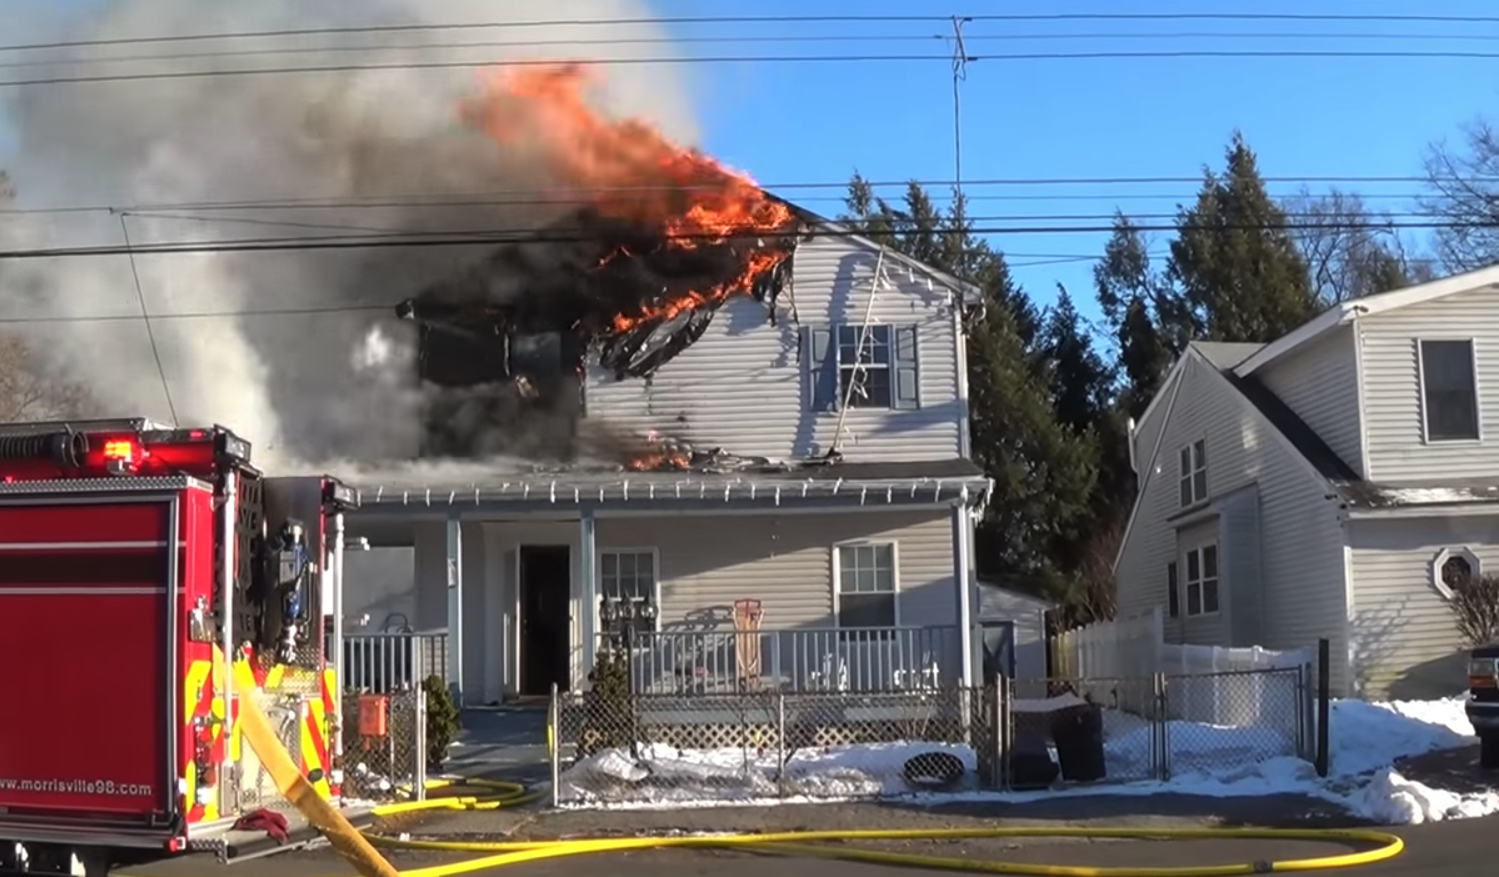fire: (456, 57, 793, 313)
